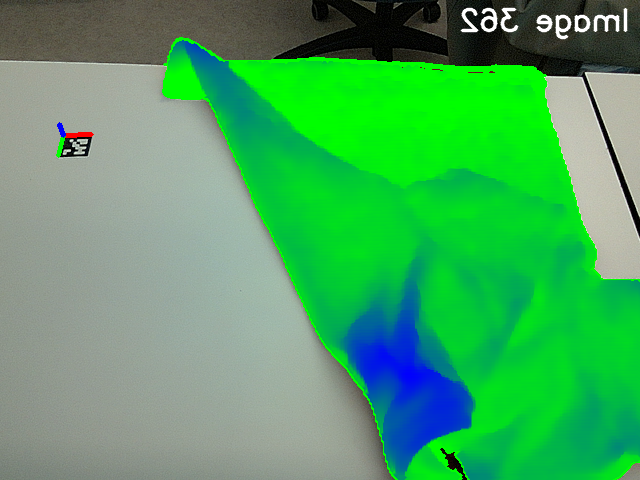V: (431, 151, 495, 212), (520, 189, 575, 246)
